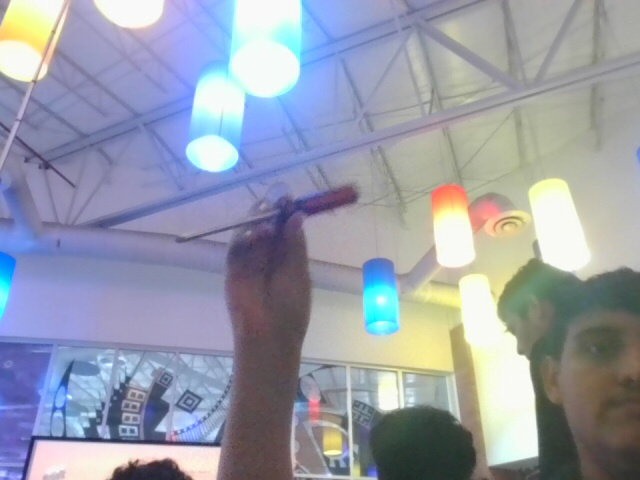destornillador: (178, 184, 362, 244)
